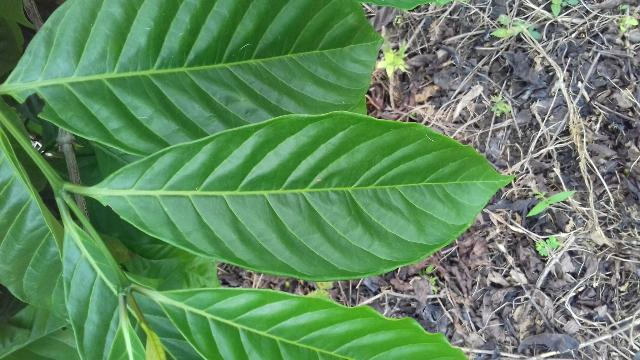healthy: (68, 108, 521, 280)
